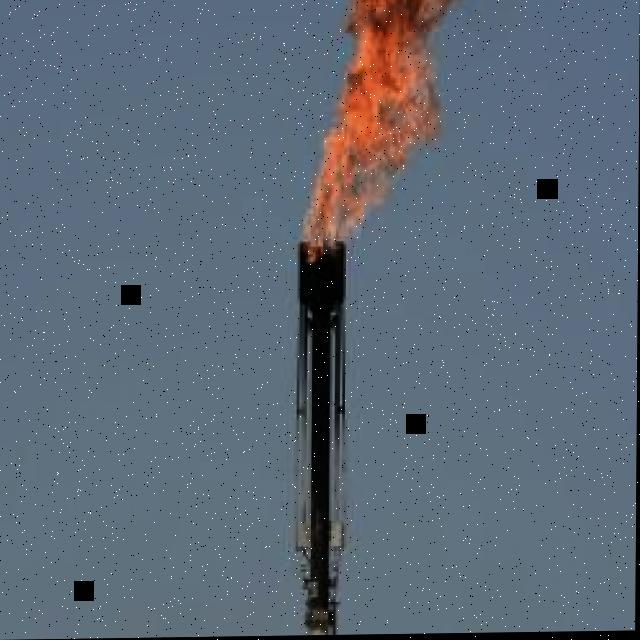fire: (304, 0, 456, 261)
